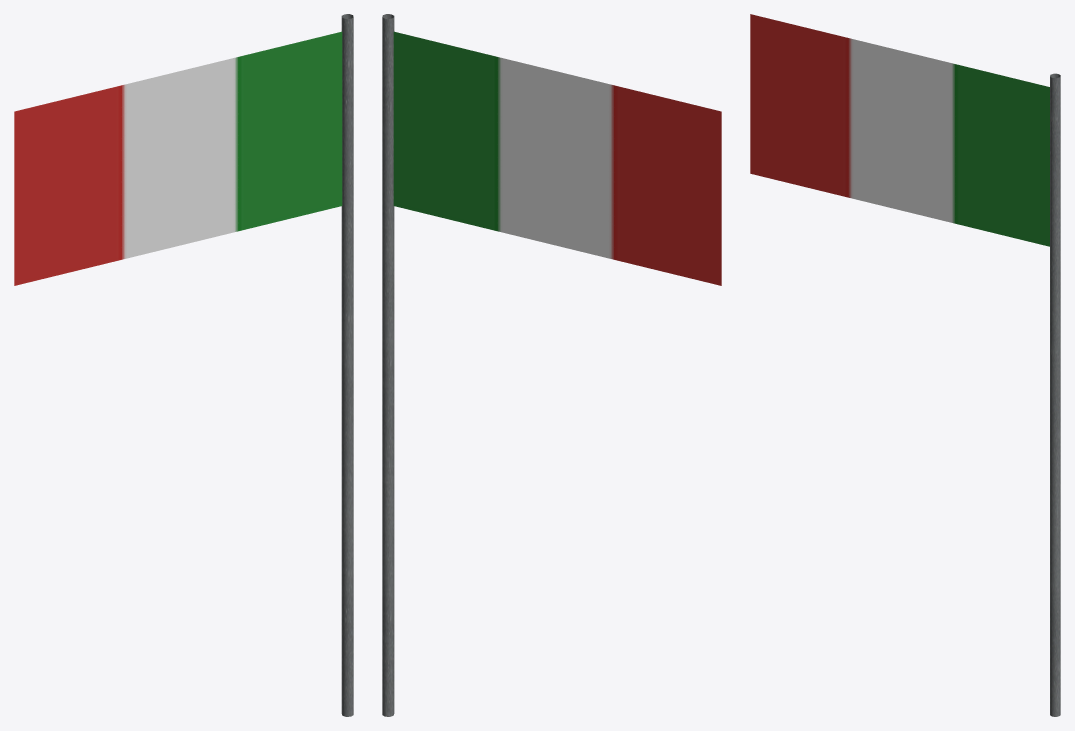
The model's file is Italy.fbx.
The picture shows the model from 3 angles, left to right: view 1: azimuth 30°, elevation 25°; view 2: azimuth 150°, elevation 25°; view 3: azimuth 330°, elevation 25°; orthographic projection. The views are drawn at different scales.
Visible parts, largest first — view 1: Flag, Pole; view 2: Flag, Pole; view 3: Flag, Pole.
Boxes of the visible parts, x1,y1,x2,y2 form: Flag: [14, 31, 342, 285]; Pole: [341, 14, 353, 716]; Flag: [393, 31, 721, 285]; Pole: [382, 14, 394, 716]; Flag: [750, 14, 1049, 246]; Pole: [1050, 73, 1060, 716].
Size of the model in its own units: 406 by 800 by 12.83.
